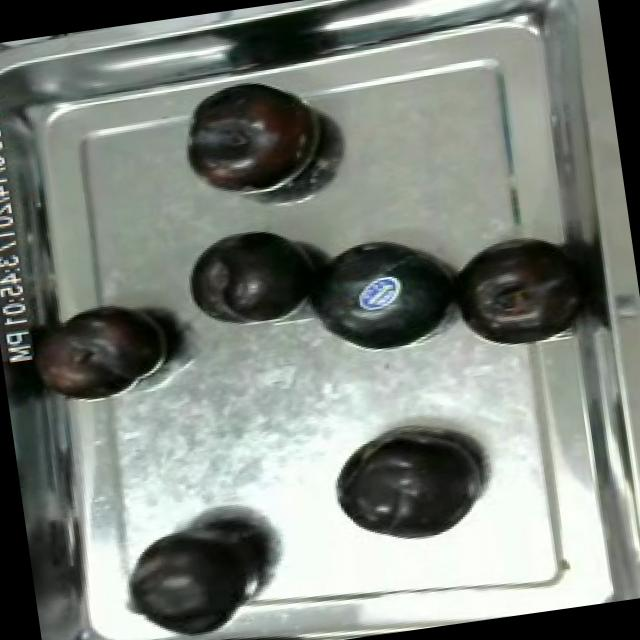Fruit: (290, 223, 466, 366), (108, 504, 289, 640), (324, 418, 494, 554), (172, 68, 334, 205), (21, 290, 184, 410), (442, 228, 586, 355), (178, 216, 324, 332)
